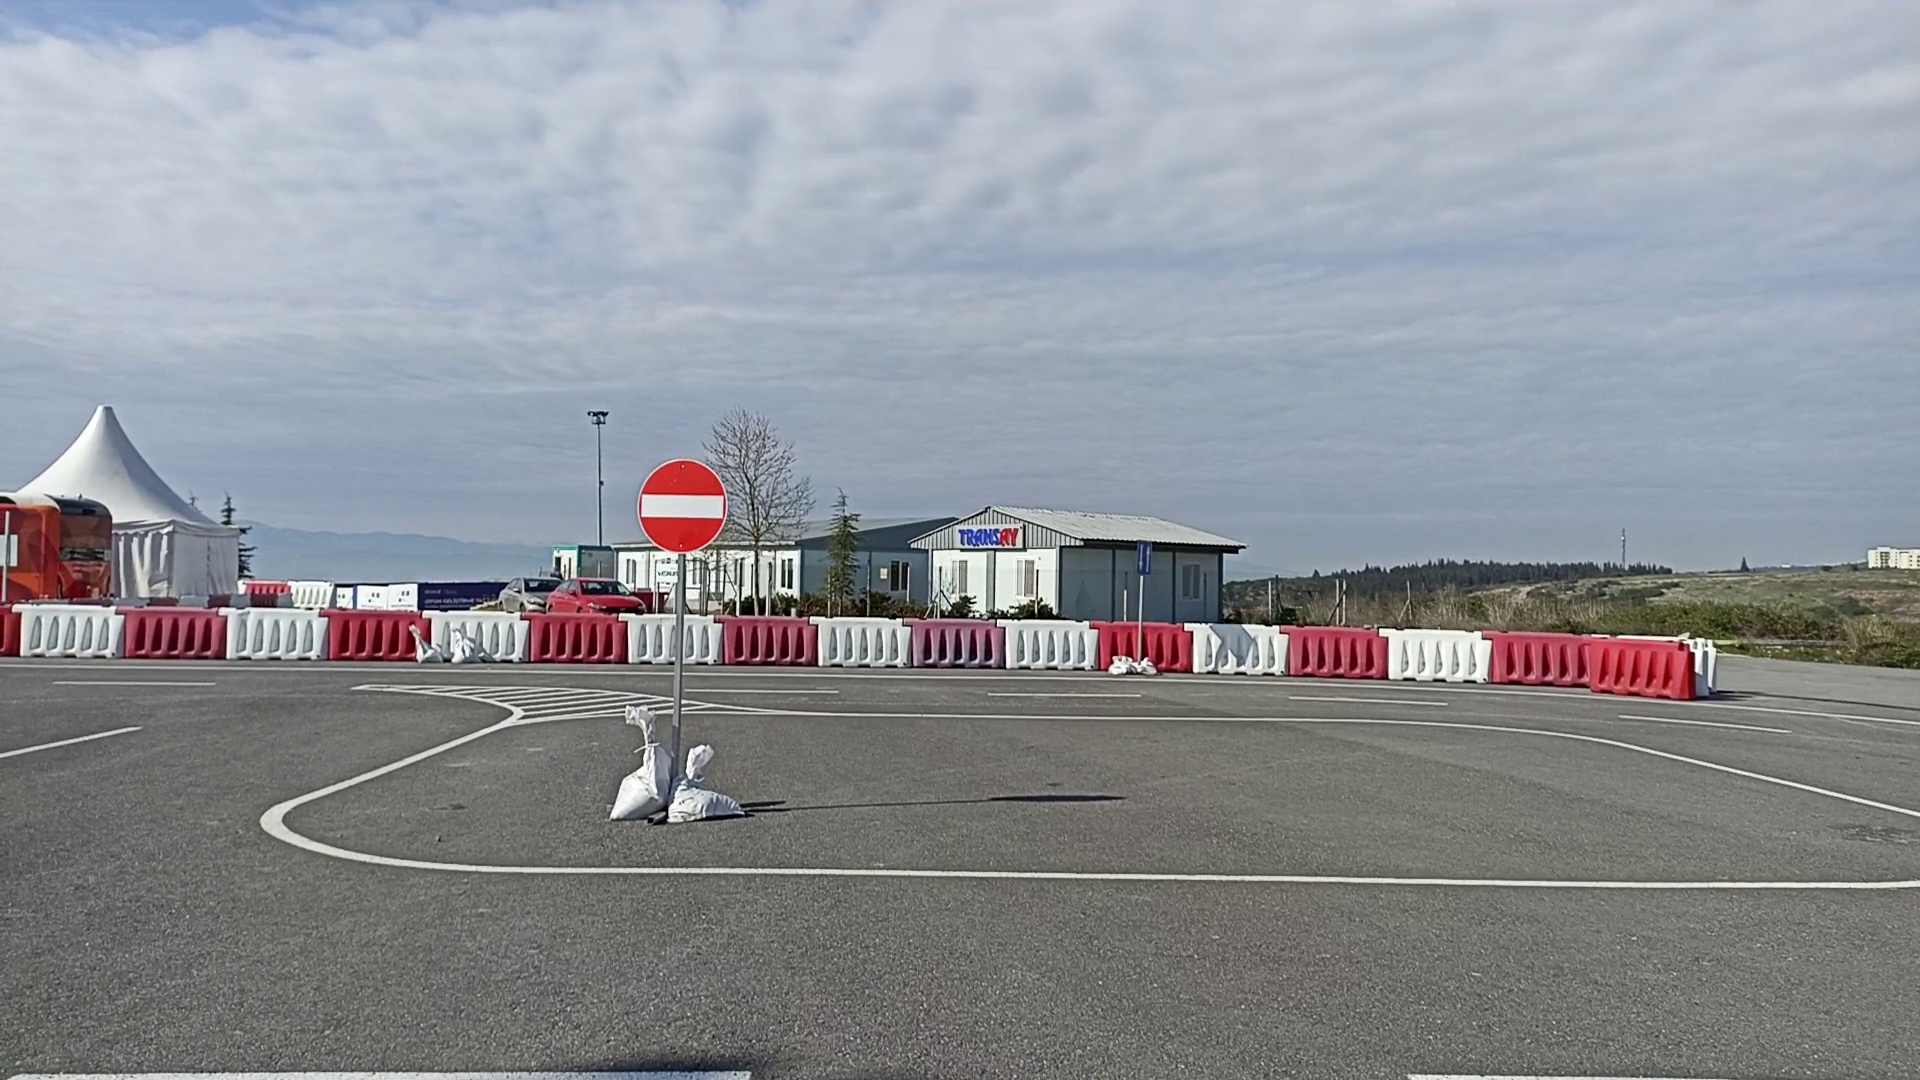noentryway: (633, 458, 732, 556)
